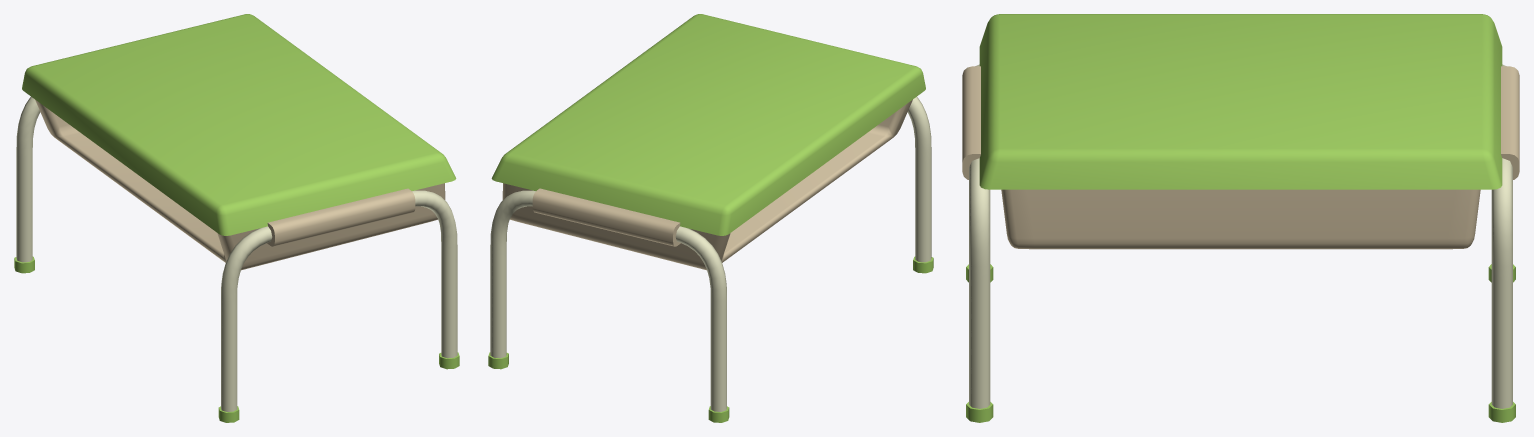
File: banco.fbx
The picture shows the model from 3 angles, left to right: view 1: azimuth 30°, elevation 25°; view 2: azimuth 150°, elevation 25°; view 3: azimuth 270°, elevation 25°; orthographic projection. The views are drawn at different scales.
Visible parts, largest first — view 1: tapa_banco, banco; view 2: tapa_banco, banco; view 3: tapa_banco, banco.
Part boxes in pixels (box(x1,y1,x2,y2)): tapa_banco: box(22, 14, 456, 235); banco: box(14, 97, 459, 422); tapa_banco: box(491, 14, 925, 235); banco: box(488, 97, 933, 422); tapa_banco: box(979, 14, 1502, 189); banco: box(962, 64, 1519, 422).
Size of the model in its own units: 183 by 152 by 289.
